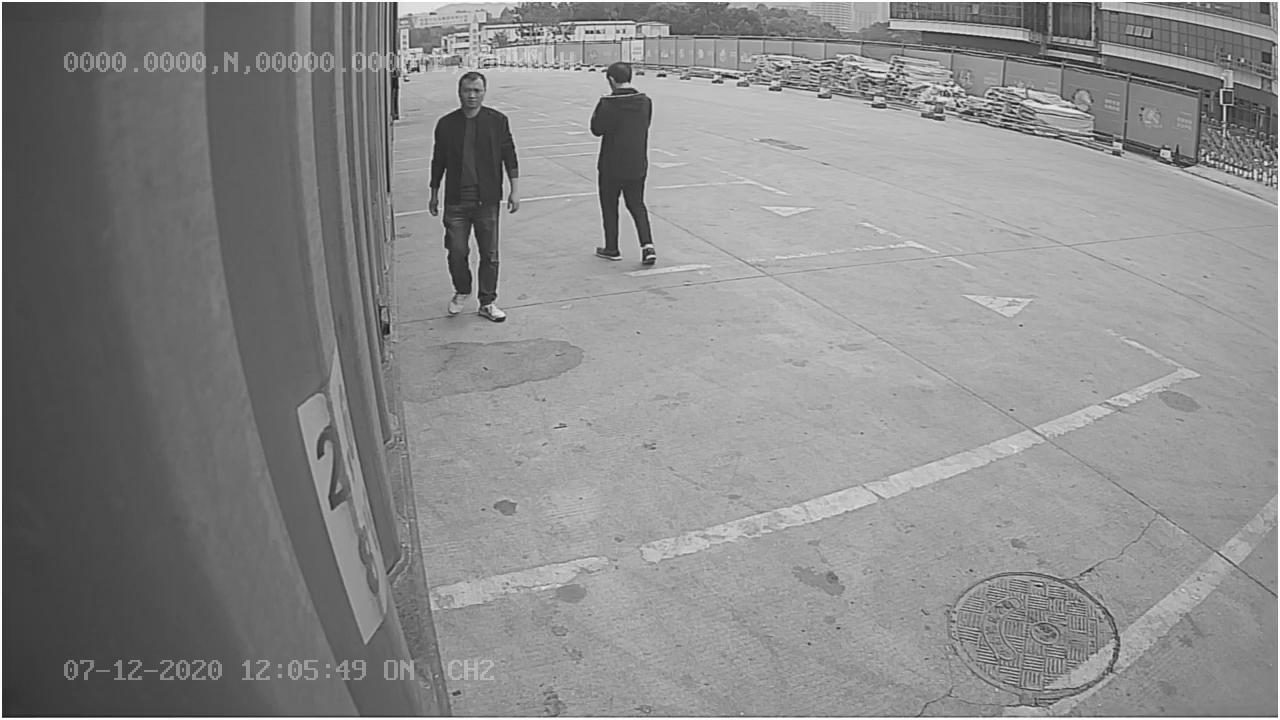person: (426, 70, 525, 324)
